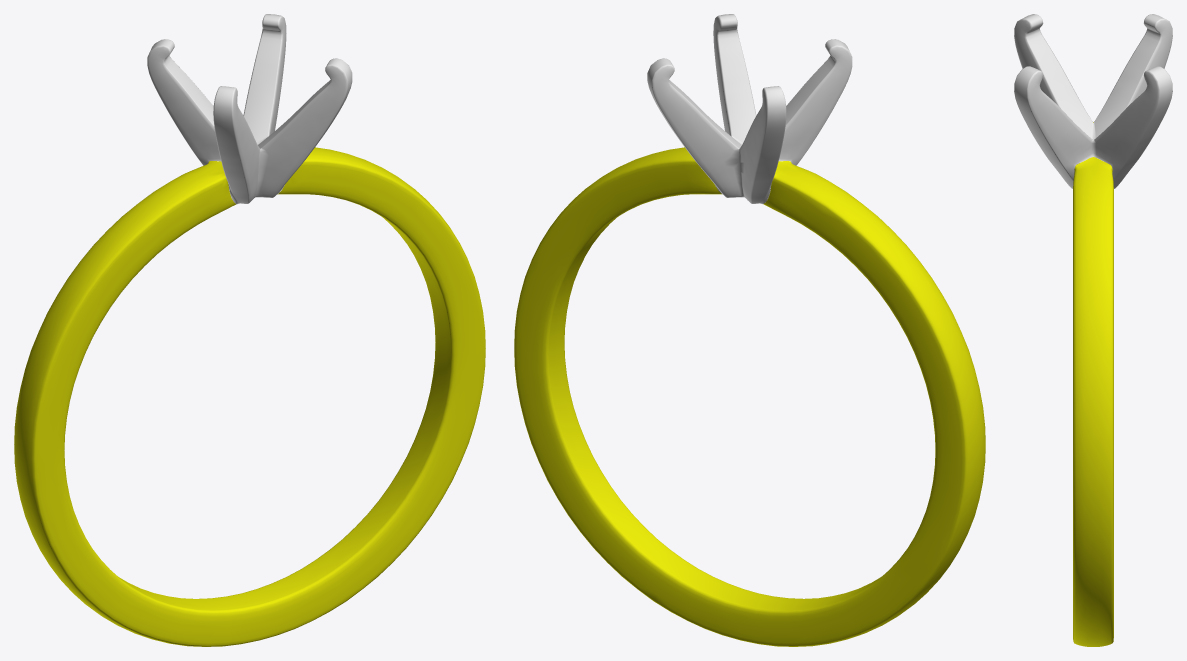
Rendered from Ring_17740_JV_RND_100_decoded.glb.
The picture shows the model from 3 angles, left to right: view 1: azimuth 30°, elevation 25°; view 2: azimuth 150°, elevation 25°; view 3: azimuth 270°, elevation 25°; orthographic projection.
Visible parts, largest first — view 1: Body; view 2: Body; view 3: Body.
Part boxes in pixels (left/top/right/bottom): Body: left=14, top=14, right=485, bottom=646; Body: left=514, top=14, right=985, bottom=646; Body: left=1014, top=14, right=1172, bottom=646.
Bounding box in the file's own units: 0.0193 × 0.0235 × 0.00583.
